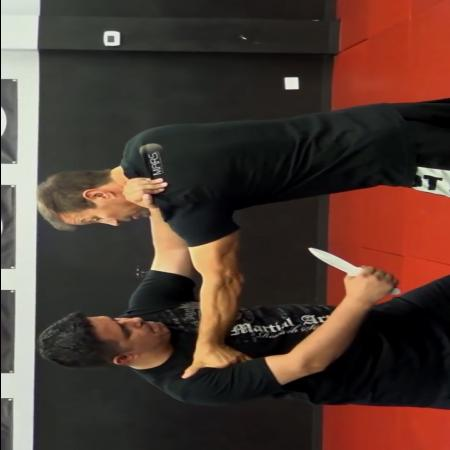long weapon: (301, 246, 403, 299)
